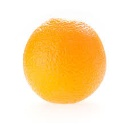orange: (22, 16, 109, 106)
